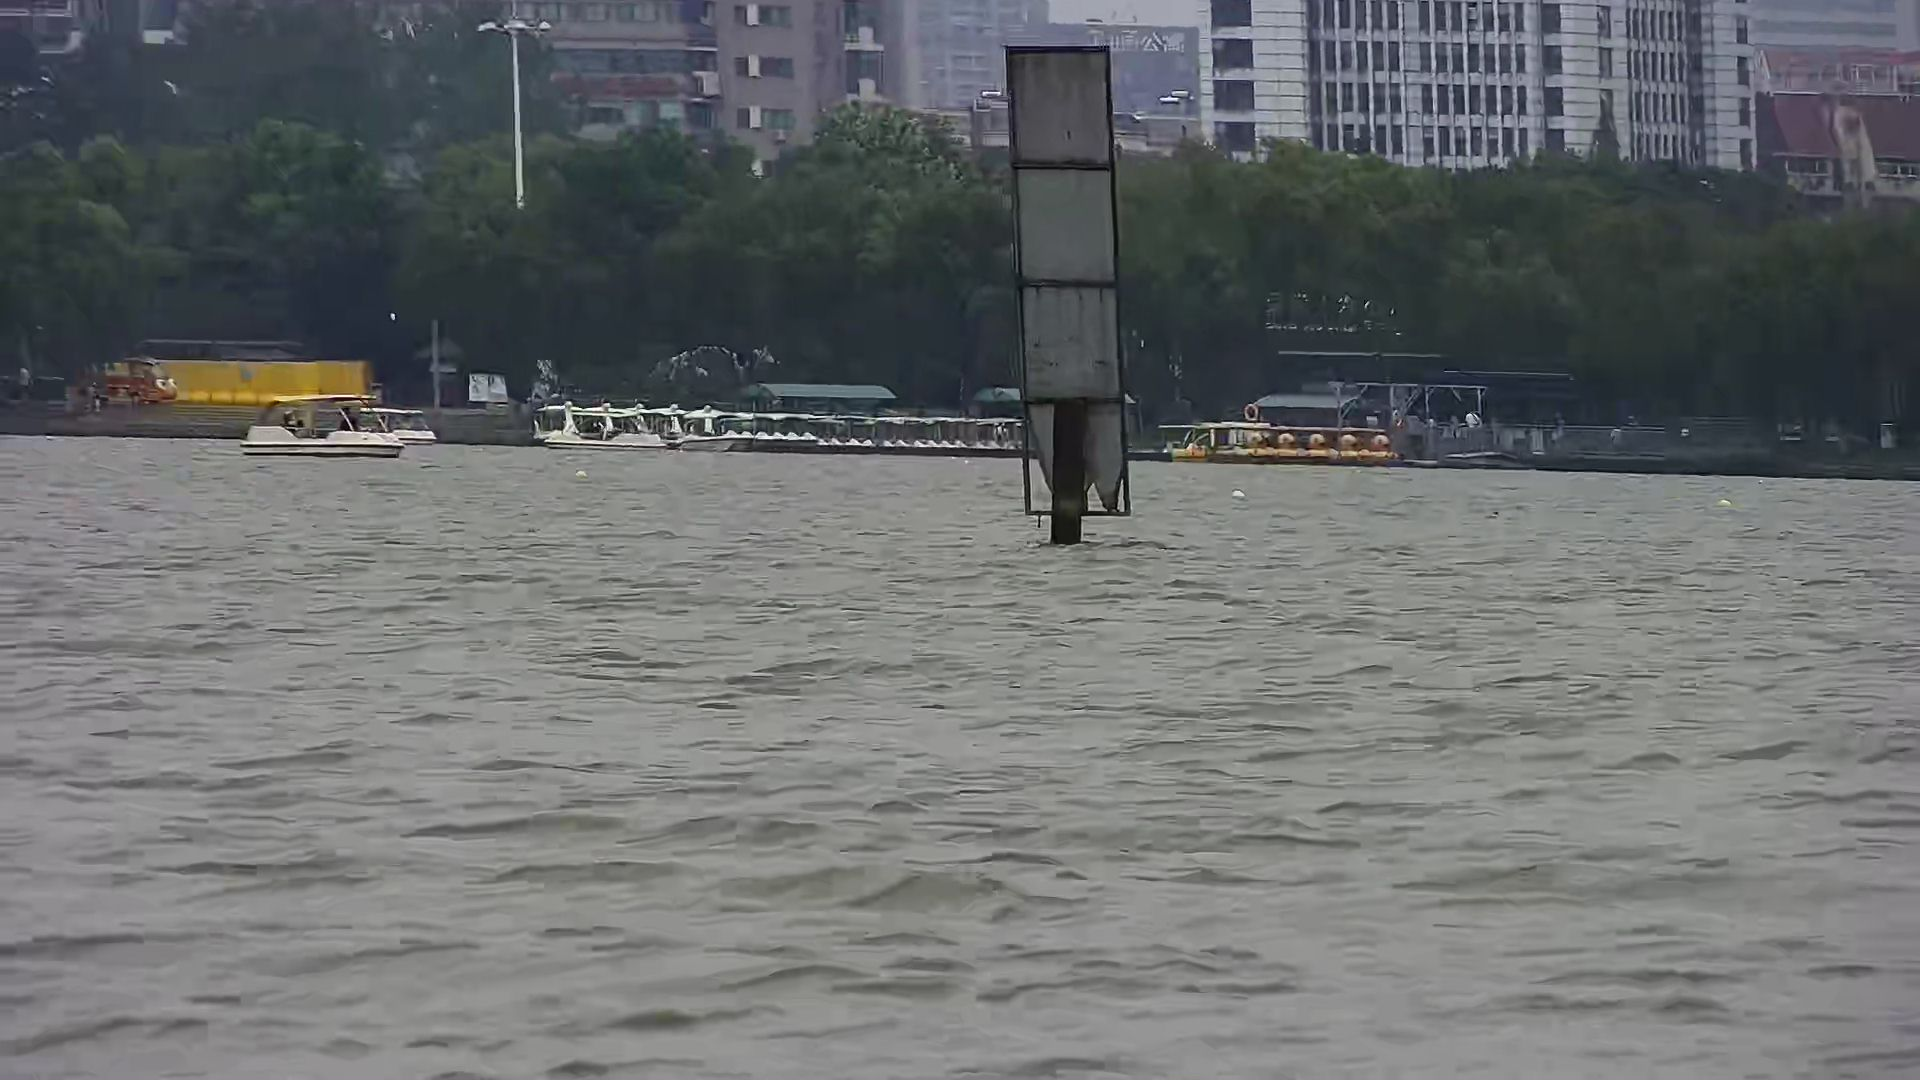boat: (237, 386, 404, 458)
harbor: (504, 371, 1415, 458)
mast: (997, 21, 1137, 549)
